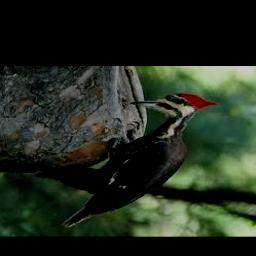Woodpecker: (61, 93, 218, 226)
